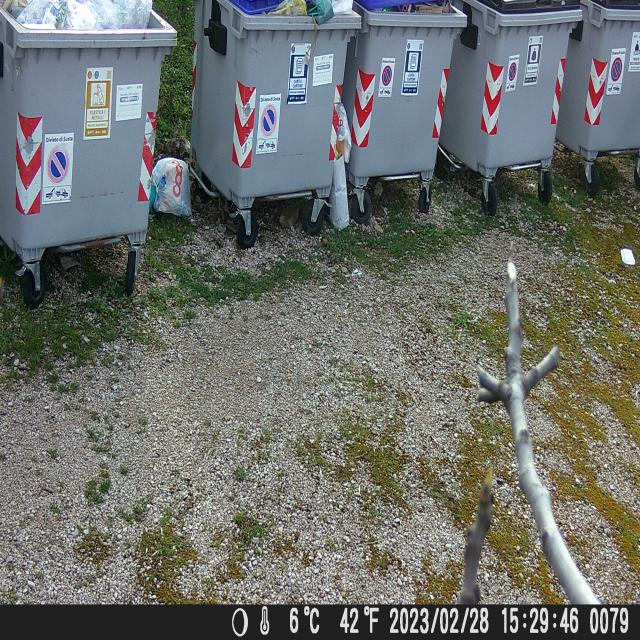sampah-detection: (9, 0, 163, 46), (238, 0, 358, 29), (146, 152, 194, 222), (332, 99, 351, 234)
